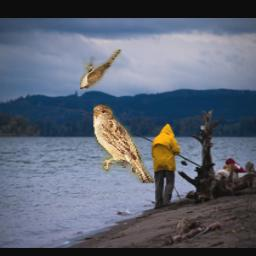Cuckoo: (80, 49, 121, 89)
Sparrow: (93, 104, 154, 183)
